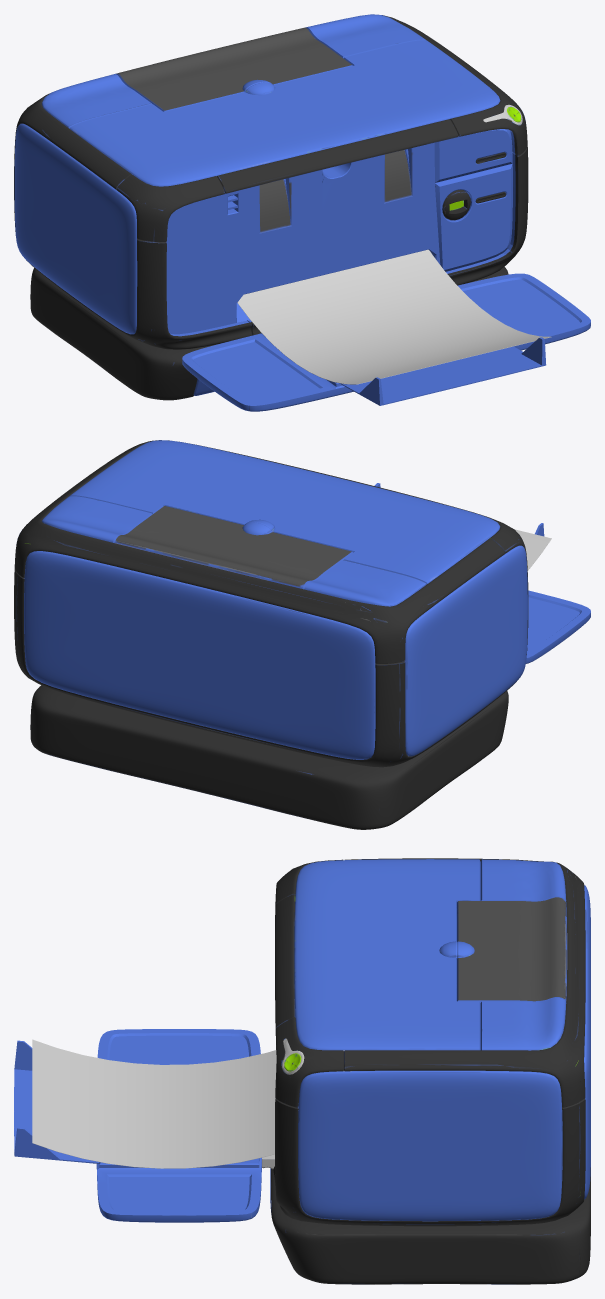
File: device.fbx
The picture shows the model from 3 angles, top to bottom: view 1: azimuth 30°, elevation 25°; view 2: azimuth 150°, elevation 25°; view 3: azimuth 270°, elevation 25°; orthographic projection. The views are drawn at different scales.
Parts seen in each view (by area): view 1: 1, 2; view 2: 1, 2; view 3: 1, 2.
Boxes of the visible parts, left/top/right/bottom form: 1: left=14, top=14, right=590, bottom=411; 2: left=237, top=249, right=551, bottom=384; 1: left=14, top=440, right=590, bottom=829; 2: left=515, top=529, right=551, bottom=570; 1: left=14, top=858, right=590, bottom=1284; 2: left=32, top=1039, right=351, bottom=1168.
Size of the model in its own units: 42 by 23 by 48.49.
Materials: 2 (1 with a texture image).
